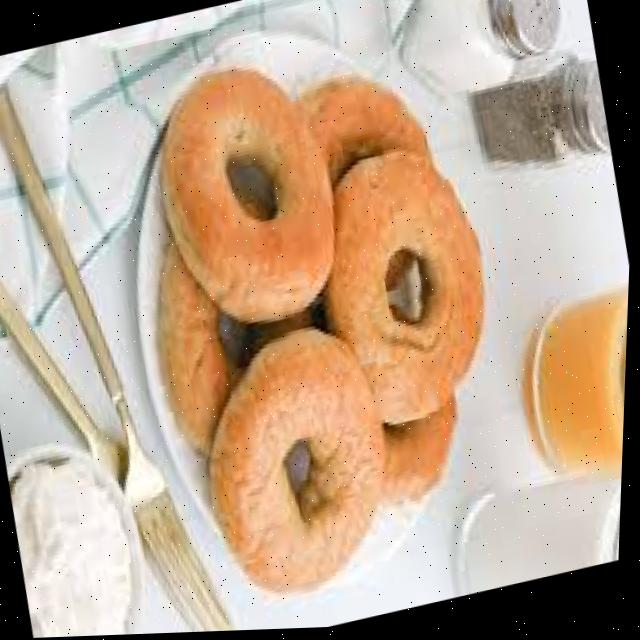Bagel: (212, 333, 388, 594), (163, 72, 335, 324), (330, 159, 482, 426)
